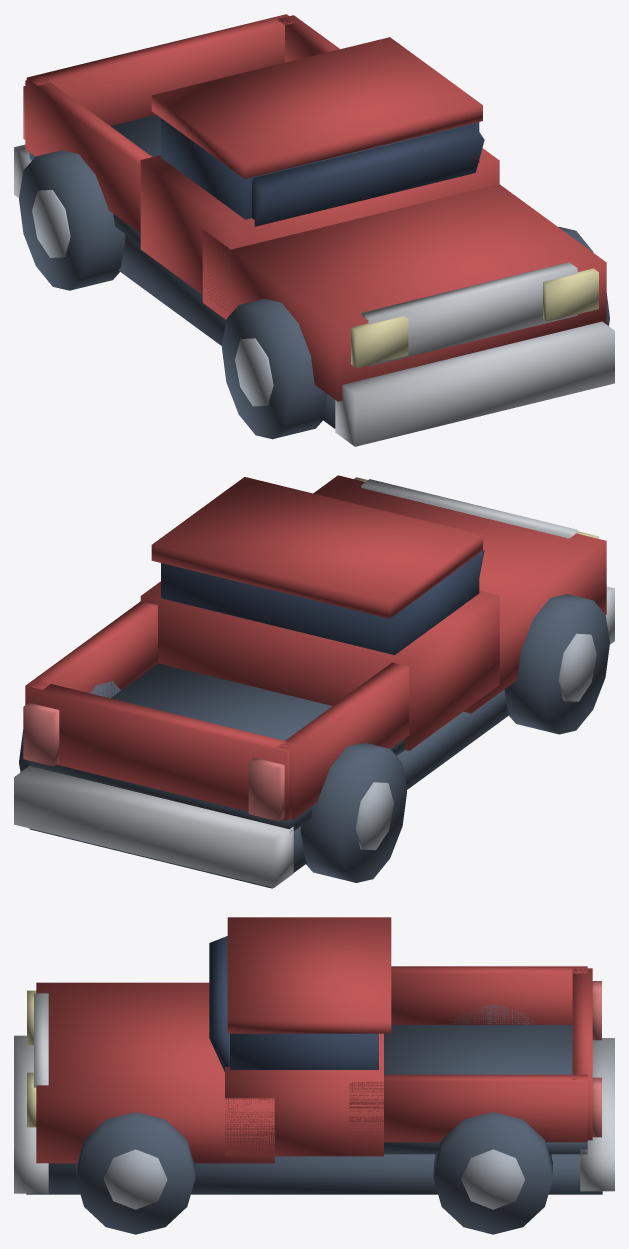
File: pickup-truck.glb
The picture shows the model from 3 angles, top to bottom: view 1: azimuth 30°, elevation 25°; view 2: azimuth 150°, elevation 25°; view 3: azimuth 270°, elevation 25°; orthographic projection. The views are drawn at different scales.
Visible parts, largest first — view 1: world; view 2: world; view 3: world.
Part boxes in pixels (x1,y1,x2,y2): world: [14, 14, 614, 446]; world: [14, 475, 614, 888]; world: [14, 917, 614, 1234].
Bounding box in the file's own units: 3.2 × 2.1 × 5.8.
